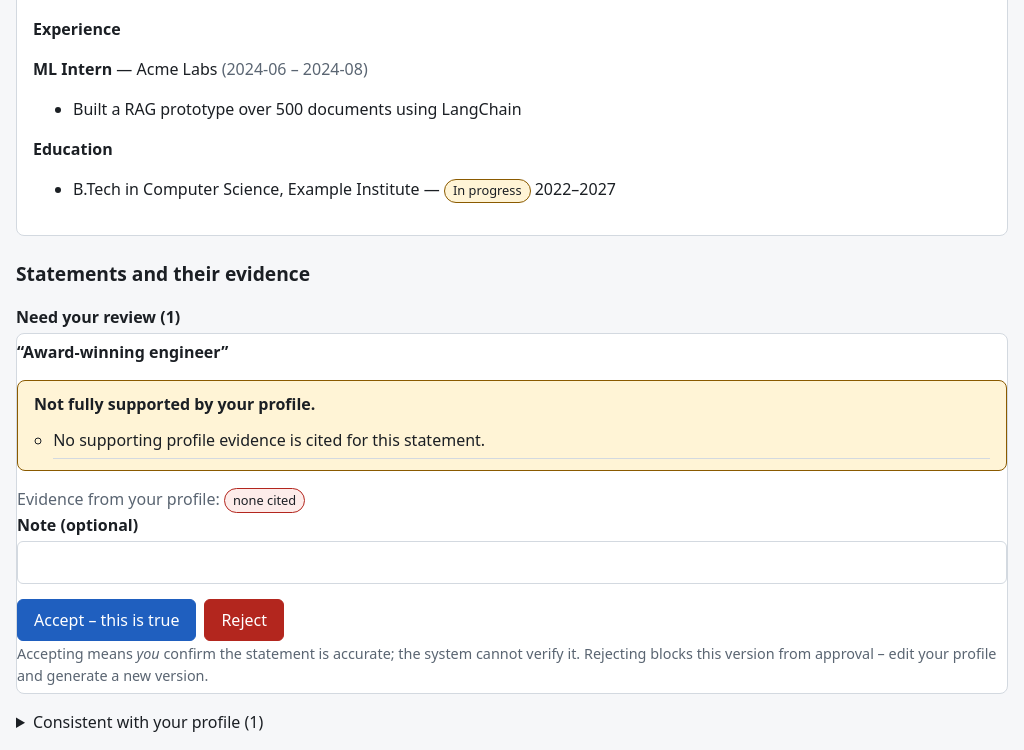
Test case: resume studio › resolves cited evidence to profile text when the profile version matches
This screenshot has width=1024, height=750.
(page scrolled)
Click the heading "Consistent with your profile (1)". click: (148, 722)
box: [33, 711, 263, 733]
(page scrolled)
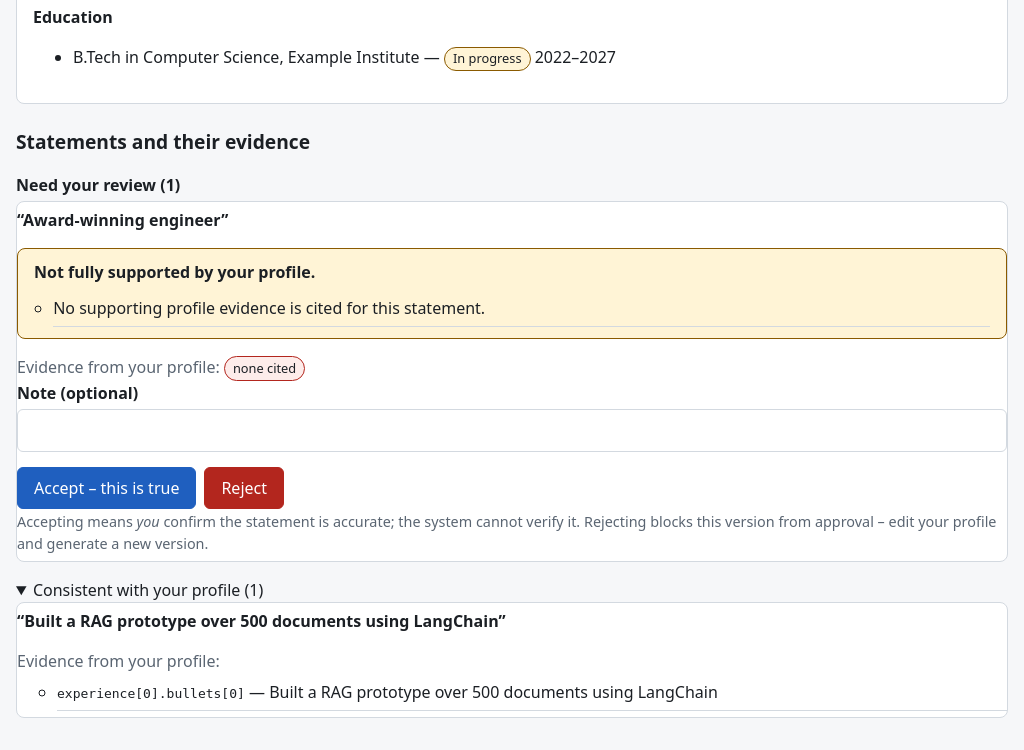
Now the text "experience[0].bullets[0]" is shown, box [57, 686, 245, 701]
